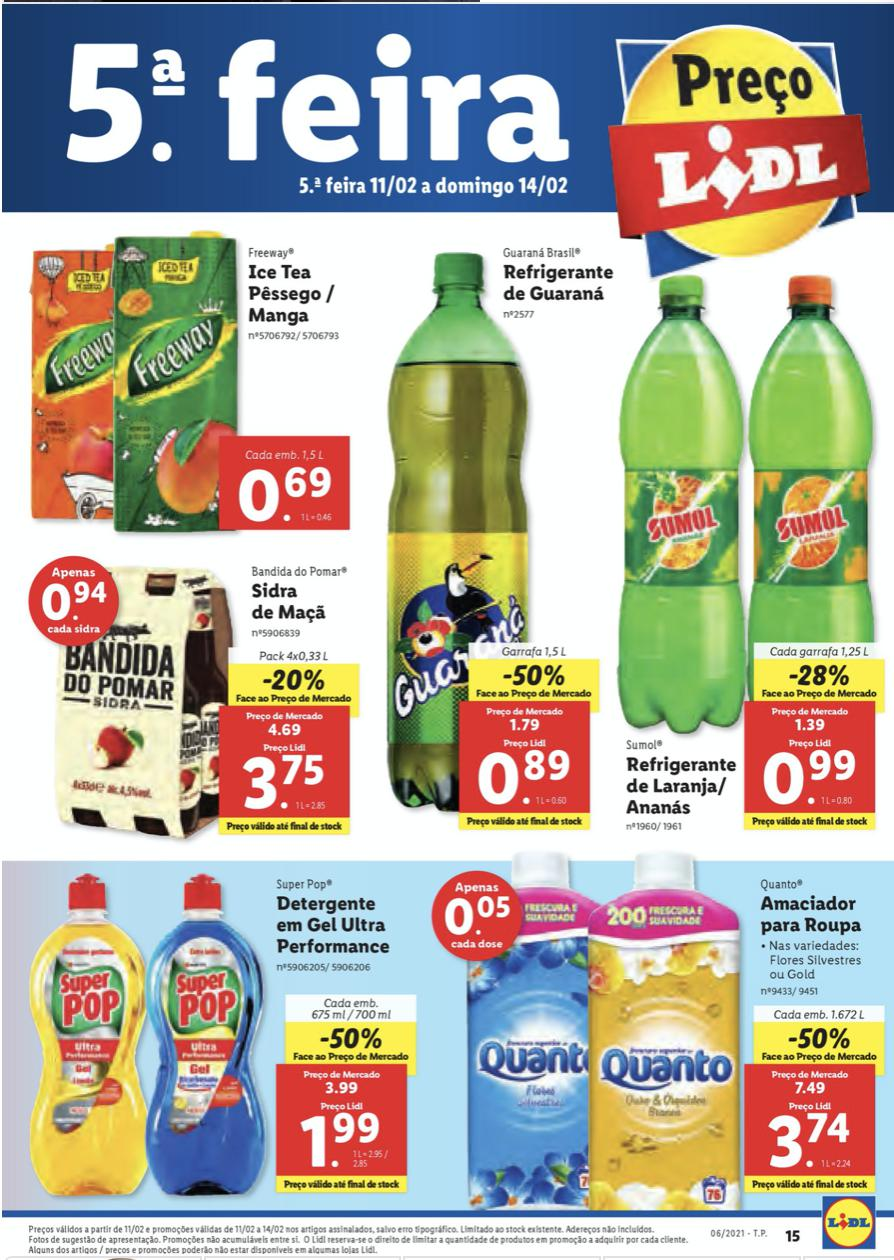name: (273, 891, 397, 960), (625, 751, 736, 820), (240, 262, 347, 331), (753, 890, 865, 943), (501, 260, 615, 307), (245, 581, 337, 627)
price: (468, 734, 575, 813), (756, 740, 867, 815), (759, 1099, 859, 1179), (234, 459, 339, 526), (234, 751, 336, 816), (298, 1106, 389, 1177)
product: (434, 848, 884, 1212), (365, 232, 631, 845), (623, 277, 882, 834), (37, 859, 429, 1210), (11, 231, 370, 540), (12, 557, 365, 845)
promotion: (778, 657, 854, 691), (784, 1024, 856, 1056), (315, 1024, 386, 1056), (261, 665, 329, 698), (501, 663, 568, 693)
